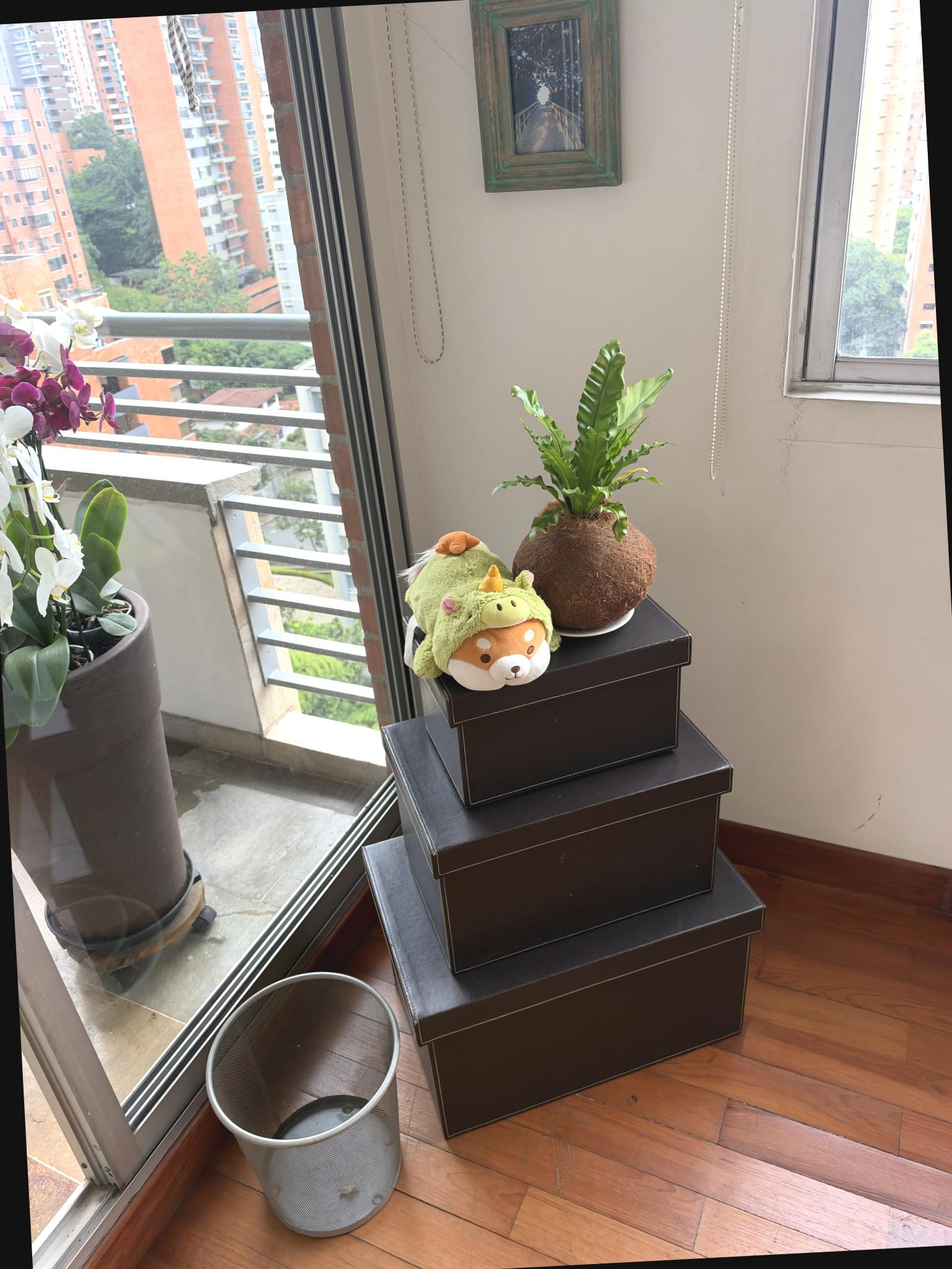peluche_martin: (394, 525, 564, 696)
